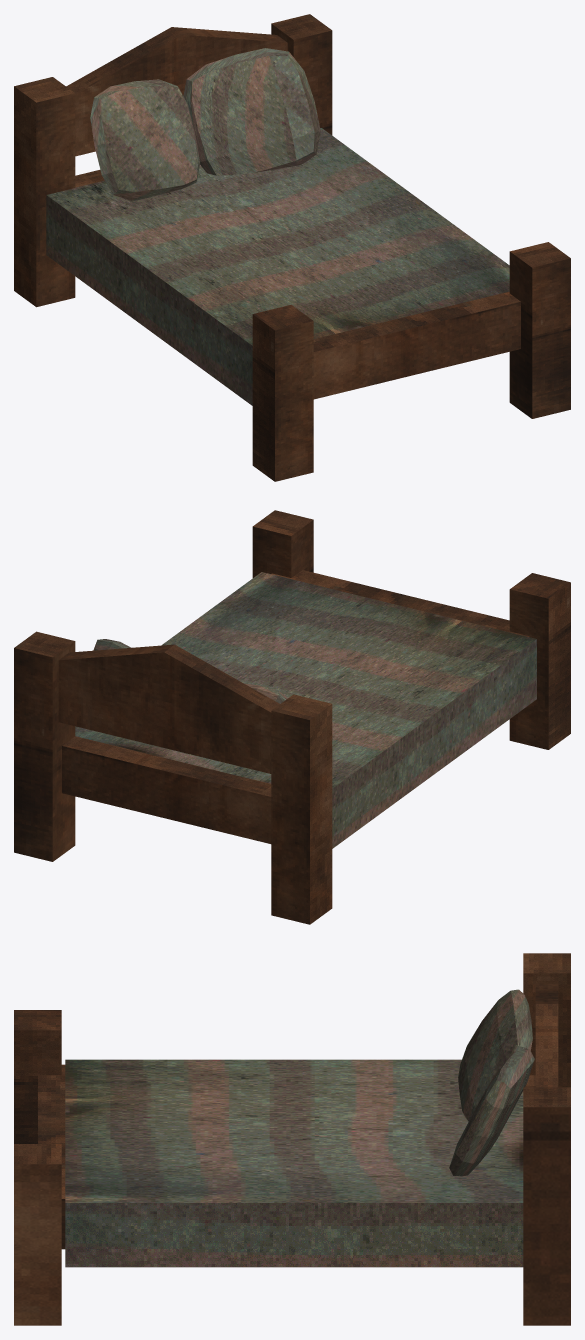
The model's file is bed.glb.
3 renders of one model, top to bottom at view 1: azimuth 30°, elevation 25°; view 2: azimuth 150°, elevation 25°; view 3: azimuth 270°, elevation 25°, orthographic. The views are drawn at different scales.
Parts seen in each view (by area): view 1: env_bed-col; view 2: env_bed-col; view 3: env_bed-col.
Part boxes in pixels (left/top/right/bottom): env_bed-col: left=14, top=14, right=570, bottom=481; env_bed-col: left=14, top=510, right=570, bottom=924; env_bed-col: left=14, top=953, right=570, bottom=1325.
Size of the model in its own units: 2.3 by 1.71 by 3.51.
3 materials, 3 textured.
